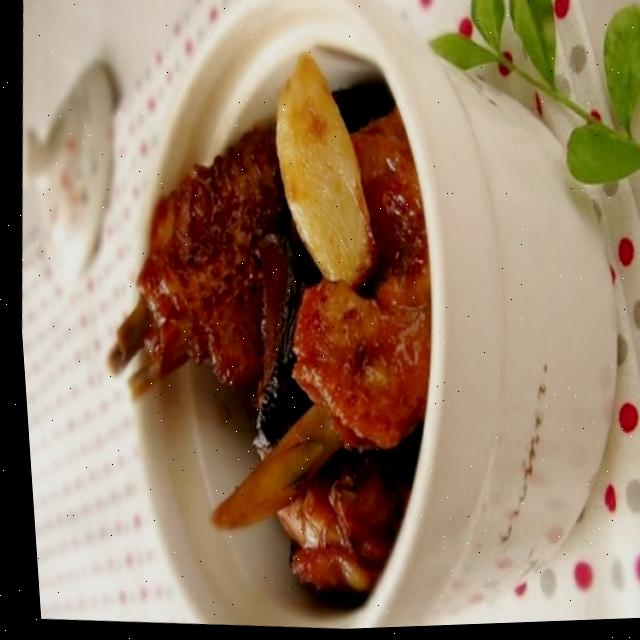鸡肉料理 含炸鸡: (60, 16, 498, 638)
